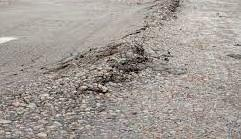alligator-crack: (0, 39, 156, 139)
